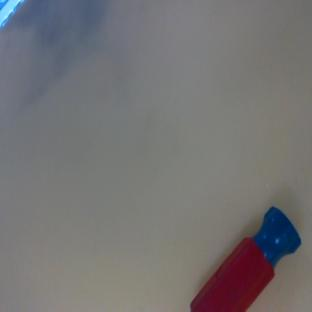part_2_good: (186, 204, 309, 312)
